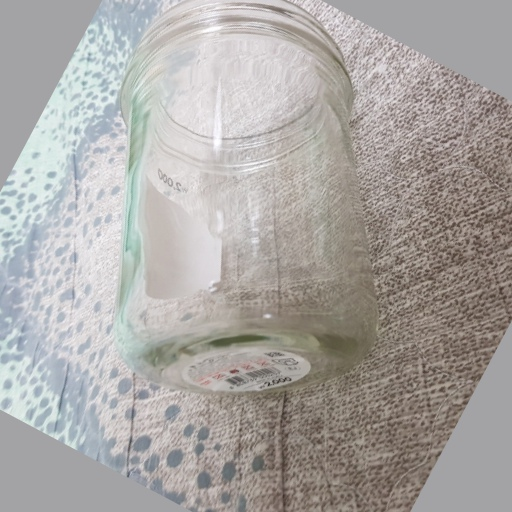Glass_5: (114, 2, 379, 394)
